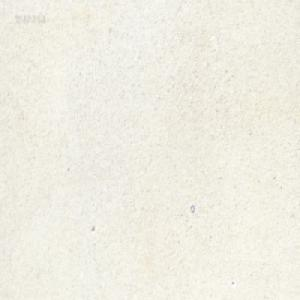Washer: (189, 203, 194, 213)
